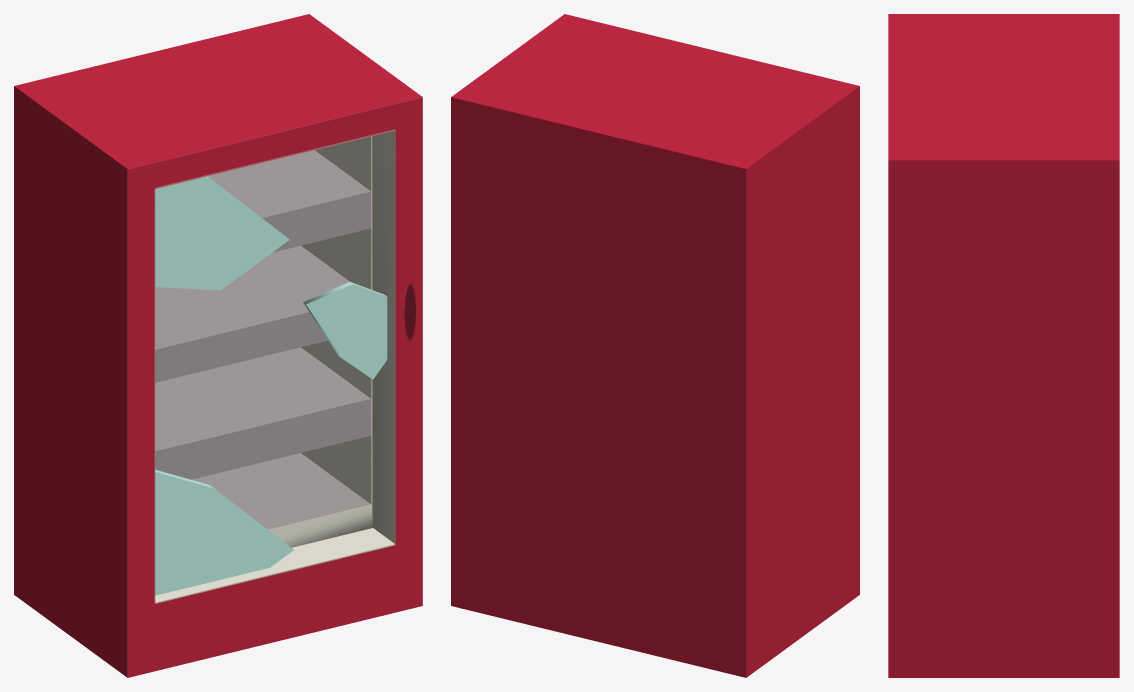
Rendered from Refrigerador (con FBX).fbx.
The picture shows the model from 3 angles, left to right: view 1: azimuth 30°, elevation 25°; view 2: azimuth 150°, elevation 25°; view 3: azimuth 270°, elevation 25°; orthographic projection.
Visible parts, largest first — view 1: pasted__pCube12, pCube4; view 2: pasted__pCube12; view 3: pasted__pCube12.
Boxes of the visible parts, box(x1,y1,x2,y2) form: pasted__pCube12: box(14, 14, 422, 677); pCube4: box(155, 176, 387, 595); pasted__pCube12: box(451, 14, 859, 677); pasted__pCube12: box(888, 14, 1119, 677).
Size of the model in its own units: 1.5 by 2.47 by 1.
